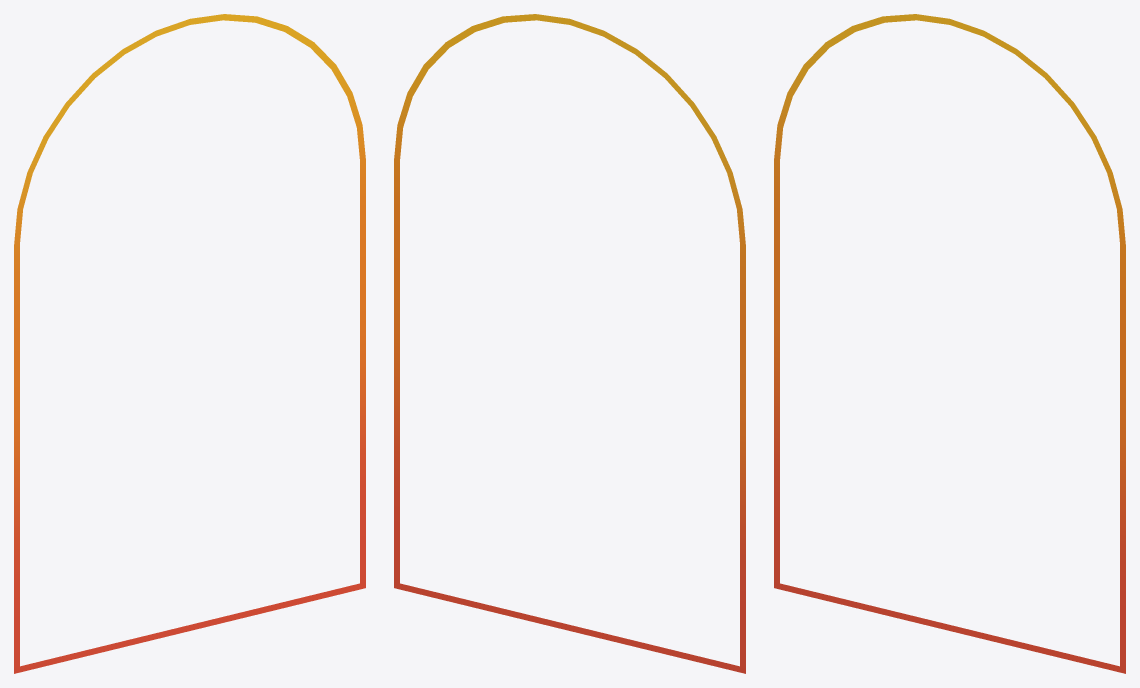
File: portalLayer2.glb
The picture shows the model from 3 angles, left to right: view 1: azimuth 30°, elevation 25°; view 2: azimuth 150°, elevation 25°; view 3: azimuth 330°, elevation 25°; orthographic projection.
Visible parts, largest first — view 1: Cube.002; view 2: Cube.002; view 3: Cube.002.
Part boxes in pixels (x1,y1,x2,y2): Cube.002: [14, 14, 365, 673]; Cube.002: [394, 14, 745, 673]; Cube.002: [774, 14, 1125, 673].
Size of the model in its own units: 1.83 by 3.03 by 0.
Materials: 1 (1 with a texture image).
